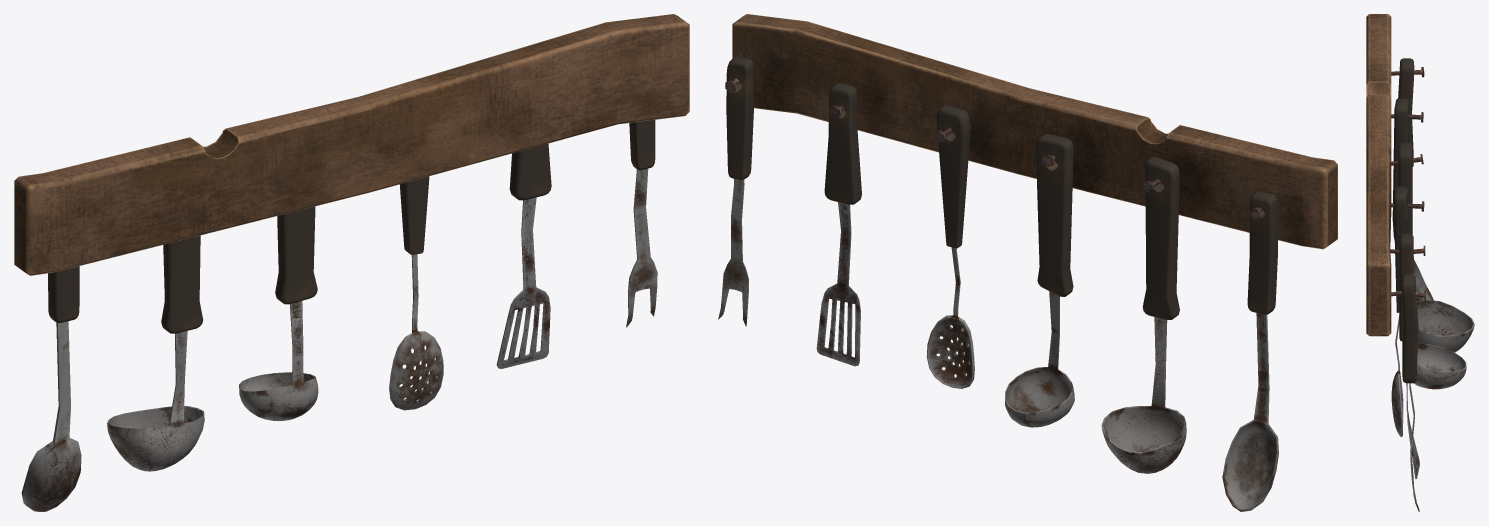
The model's file is post_apocalyptic_kitchen_utensils.glb.
The picture shows the model from 3 angles, left to right: view 1: azimuth 30°, elevation 25°; view 2: azimuth 150°, elevation 25°; view 3: azimuth 270°, elevation 25°; orthographic projection. The views are drawn at different scales.
Parts seen in each view (by area): view 1: Plank, scoop_large, spoon, scoop_small, skimmer, scapula, handle, handle.001, spending_fork, handle.004, handle.003, handle.002 (+1 smaller); view 2: Plank, scoop_large, handle, spoon, handle.001, scoop_small, handle.004, handle.003, scapula, handle.002, skimmer, handle.005 (+2 smaller); view 3: Plank, scoop_large, scoop_small, handle.005, handle.003, handle.001, handle, handle.004, handle.002, skimmer, Nails, scapula (+2 smaller).
Boxes of the visible parts, x1,y1,x2,y2 form: Plank: (14,14,689,275); scoop_large: (107,331,204,471); spoon: (21,321,81,511); scoop_small: (239,301,318,421); skimmer: (389,254,443,410); scapula: (496,197,550,368); handle: (275,206,317,304); handle.001: (161,235,203,333); spending_fork: (626,168,657,327); handle.004: (509,143,551,200); handle.003: (399,176,429,254); handle.002: (48,266,79,322); Plank: (732,14,1337,249); scoop_large: (1101,317,1186,473); handle: (1036,133,1073,296); spoon: (1222,313,1278,511); handle.001: (1142,157,1179,319); scoop_small: (1005,291,1074,427); handle.004: (824,83,861,204); handle.003: (936,105,970,248); scapula: (816,202,860,366); handle.002: (1247,191,1277,314); skimmer: (926,247,974,388); handle.005: (726,56,753,179); Plank: (1366,14,1391,336); scoop_large: (1416,300,1474,352); scoop_small: (1414,343,1466,389); handle.005: (1401,274,1418,383); handle.003: (1394,186,1408,312); handle.001: (1392,98,1409,239); handle: (1398,142,1412,234); handle.004: (1399,233,1413,341); handle.002: (1398,58,1414,166); skimmer: (1391,316,1403,437); Nails: (1390,67,1425,300); scapula: (1406,383,1419,478).
Bounding box in the file's own units: 0.9885 × 0.5471 × 0.1783.
1 material, 1 textured.
